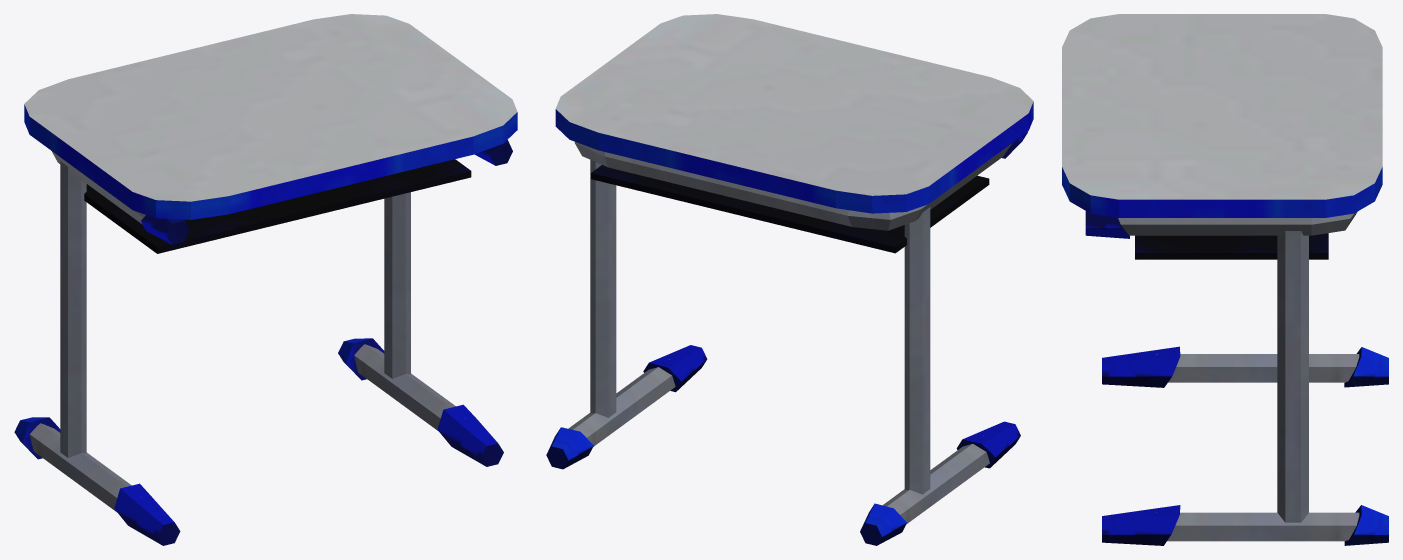
File: Mesa_Escolar.fbx
3 views of the same model, side by side, from view 1: azimuth 30°, elevation 25°; view 2: azimuth 150°, elevation 25°; view 3: azimuth 270°, elevation 25° (orthographic). The views are drawn at different scales.
Visible parts, largest first — view 1: Mesa; view 2: Mesa; view 3: Mesa.
Boxes of the visible parts, bbox=[...] form: Mesa: bbox=[14, 14, 517, 545]; Mesa: bbox=[546, 14, 1033, 545]; Mesa: bbox=[1062, 14, 1388, 545].
Size of the model in its own units: 43.56 by 38.88 by 32.39.
1 material, 1 textured.
